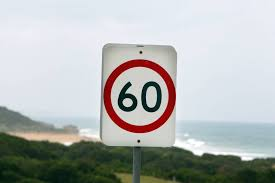Speed_limit_60km: (99, 58, 179, 133)
